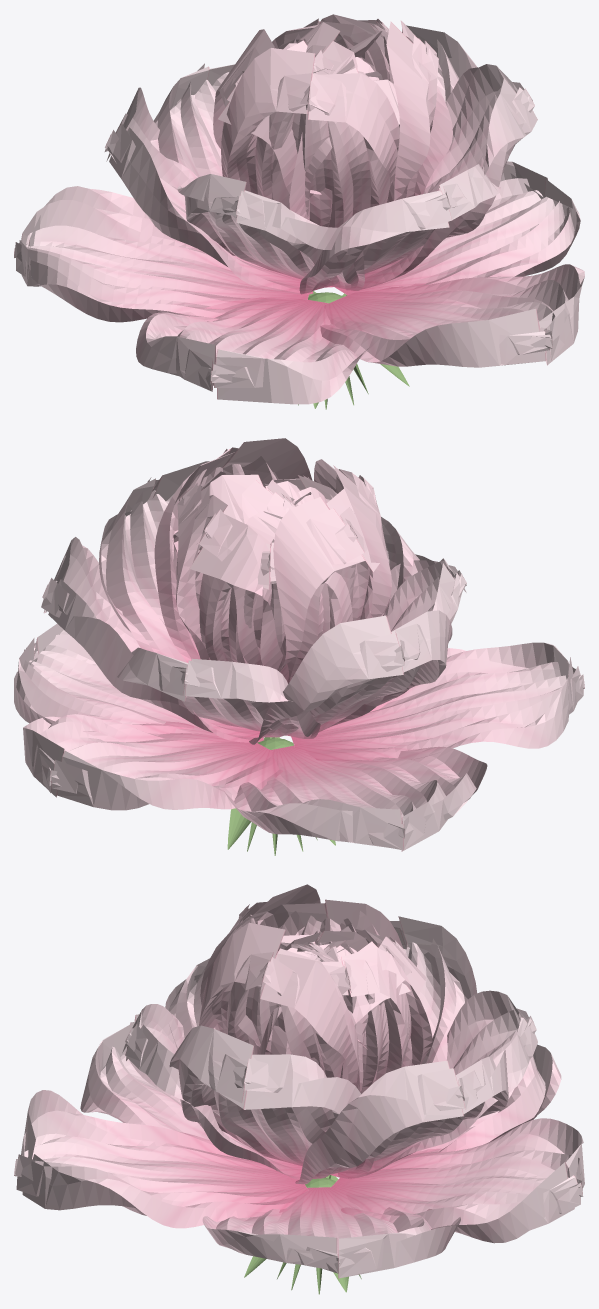
The model's file is hibiscus-mutabilis-bloom-separate-petals.glb.
The picture shows the model from 3 angles, top to bottom: view 1: azimuth 30°, elevation 25°; view 2: azimuth 150°, elevation 25°; view 3: azimuth 270°, elevation 25°; orthographic projection.
Parts seen in each view (by area): view 1: Petal_L1_Outer_03, Petal_L1_Outer_05, Petal_L3_Mid_04, Petal_L1_Outer_04, Petal_L1_Outer_01, Petal_L2_Outer_06, Petal_L2_Outer_04, Petal_L2_Outer_05, Petal_L2_Outer_03, Petal_L3_Mid_06, Petal_L2_Outer_02, Petal_L3_Mid_03 (+5 smaller); view 2: Petal_L1_Outer_04, Petal_L1_Outer_03, Petal_L1_Outer_02, Petal_L2_Outer_03, Petal_L3_Mid_03, Petal_L1_Outer_01, Petal_L2_Outer_06, Petal_L2_Outer_01, Petal_L2_Outer_02, Petal_L3_Mid_01, Petal_L3_Mid_06, Petal_L3_Mid_02 (+7 smaller); view 3: Petal_L1_Outer_05, Petal_L1_Outer_02, Petal_L2_Outer_06, Petal_L3_Mid_06, Petal_L2_Outer_01, Petal_L1_Outer_01, Petal_L3_Mid_07, Petal_L2_Outer_02, Petal_L1_Outer_04, Petal_L2_Outer_03, Petal_L2_Outer_05, Petal_L1_Outer_03 (+5 smaller).
Part boxes in pixels (x1=…): Petal_L1_Outer_03: x1=14, y1=186, x2=308, y2=322; Petal_L1_Outer_05: x1=320, y1=264, x2=584, y2=367; Petal_L3_Mid_04: x1=221, y1=48, x2=407, y2=227; Petal_L1_Outer_04: x1=136, y1=297, x2=368, y2=404; Petal_L1_Outer_01: x1=334, y1=161, x2=580, y2=295; Petal_L2_Outer_06: x1=346, y1=64, x2=537, y2=290; Petal_L2_Outer_04: x1=177, y1=174, x2=364, y2=290; Petal_L2_Outer_05: x1=299, y1=164, x2=500, y2=294; Petal_L2_Outer_03: x1=104, y1=87, x2=313, y2=295; Petal_L3_Mid_06: x1=386, y1=20, x2=441, y2=202; Petal_L2_Outer_02: x1=150, y1=63, x2=234, y2=177; Petal_L3_Mid_03: x1=213, y1=29, x2=309, y2=220; Petal_L1_Outer_04: x1=291, y1=642, x2=584, y2=761; Petal_L1_Outer_03: x1=223, y1=745, x2=487, y2=851; Petal_L1_Outer_02: x1=23, y1=714, x2=282, y2=810; Petal_L2_Outer_03: x1=249, y1=610, x2=452, y2=744; Petal_L3_Mid_03: x1=273, y1=488, x2=390, y2=683; Petal_L1_Outer_01: x1=14, y1=623, x2=234, y2=742; Petal_L2_Outer_06: x1=99, y1=461, x2=209, y2=662; Petal_L2_Outer_01: x1=41, y1=537, x2=263, y2=742; Petal_L2_Outer_02: x1=117, y1=647, x2=320, y2=738; Petal_L3_Mid_01: x1=173, y1=495, x2=288, y2=682; Petal_L3_Mid_06: x1=154, y1=438, x2=312, y2=662; Petal_L3_Mid_02: x1=195, y1=542, x2=352, y2=663; Petal_L1_Outer_05: x1=14, y1=1090, x2=308, y2=1228; Petal_L1_Outer_02: x1=331, y1=1118, x2=584, y2=1243; Petal_L2_Outer_06: x1=169, y1=1025, x2=374, y2=1173; Petal_L3_Mid_06: x1=199, y1=922, x2=359, y2=1091; Petal_L2_Outer_01: x1=295, y1=1050, x2=508, y2=1184; Petal_L1_Outer_01: x1=202, y1=1187, x2=460, y2=1278; Petal_L3_Mid_07: x1=258, y1=948, x2=432, y2=1093; Petal_L2_Outer_02: x1=337, y1=990, x2=537, y2=1178; Petal_L1_Outer_04: x1=80, y1=1014, x2=253, y2=1161; Petal_L2_Outer_03: x1=390, y1=916, x2=477, y2=1064; Petal_L2_Outer_05: x1=122, y1=1004, x2=302, y2=1179; Petal_L1_Outer_03: x1=330, y1=1044, x2=561, y2=1177.
Bounding box in the file's own units: 0.1292 × 0.0948 × 0.1325.
Materials: 5 (3 with a texture image).
